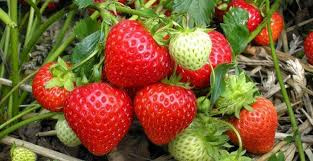Fresa: (100, 15, 177, 91), (65, 78, 135, 161), (131, 73, 200, 149), (224, 89, 281, 159), (30, 57, 92, 114)
